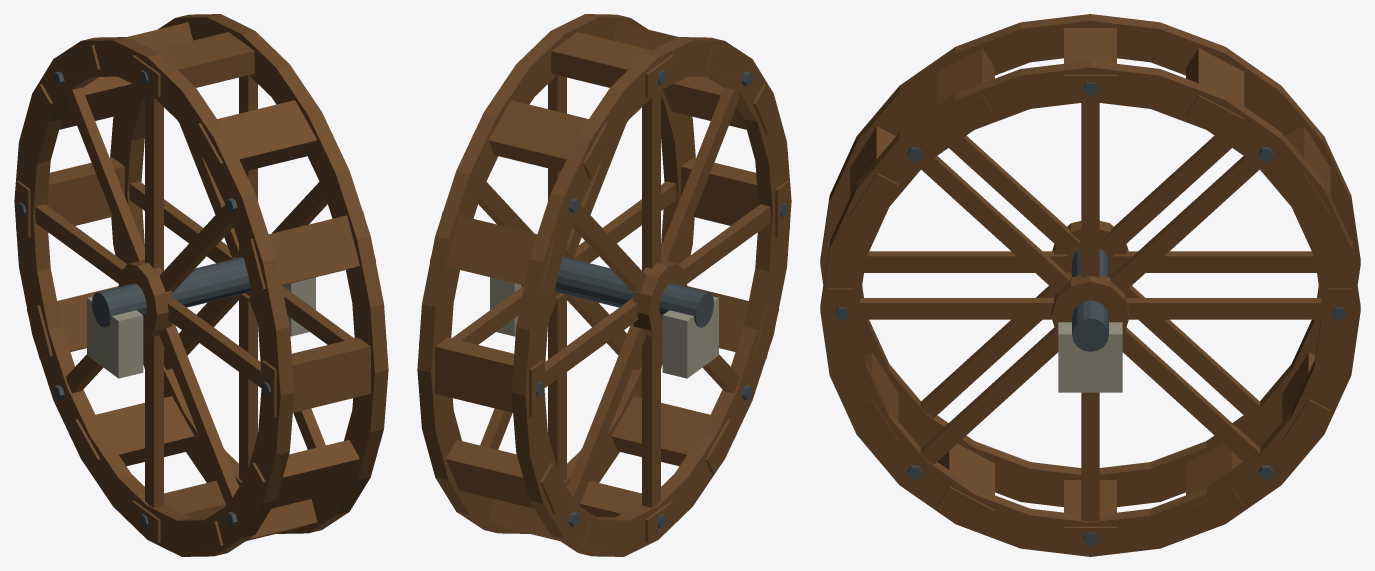
The model's file is waterwheel.glb.
3 renders of one model, left to right at view 1: azimuth 30°, elevation 25°; view 2: azimuth 150°, elevation 25°; view 3: azimuth 270°, elevation 25°, orthographic.
Parts seen in each view (by area): view 1: Wheel, FixedAxle; view 2: Wheel, FixedAxle; view 3: Wheel, FixedAxle.
Part boxes in pixels (bbox=[...]): Wheel: bbox=[14, 14, 388, 556]; FixedAxle: bbox=[87, 257, 315, 378]; Wheel: bbox=[417, 14, 791, 556]; FixedAxle: bbox=[490, 257, 718, 378]; Wheel: bbox=[820, 14, 1360, 556]; FixedAxle: bbox=[1058, 249, 1122, 392].
Size of the model in its own units: 2.05 by 4.7 by 4.7.
